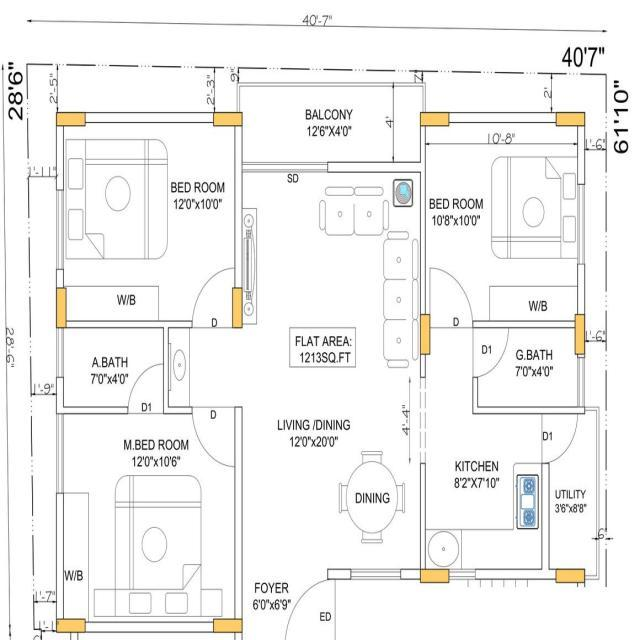Balcony-Sitout: (240, 86, 421, 161)
Bedroom: (57, 109, 243, 329), (423, 123, 578, 322)
Bedroom with Toilet: (63, 415, 235, 625)
Dining: (338, 450, 407, 544)
Enterance-Foyer: (241, 572, 349, 638)
Kitchen: (425, 413, 544, 570)
Living: (243, 168, 423, 329)
Toilet: (479, 326, 581, 405), (63, 330, 164, 409)
Utility: (547, 412, 599, 577)
